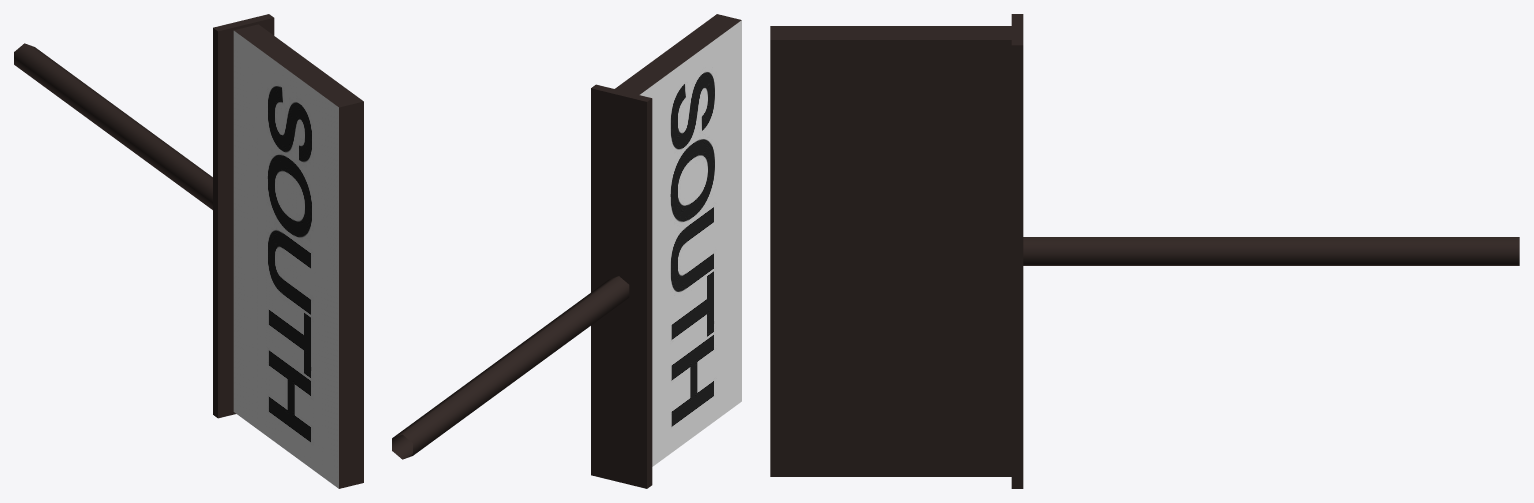
The model's file is south.obj.
The picture shows the model from 3 angles, left to right: view 1: azimuth 30°, elevation 25°; view 2: azimuth 150°, elevation 25°; view 3: azimuth 270°, elevation 25°; orthographic projection. The views are drawn at different scales.
Visible parts, largest first — view 1: south; view 2: south; view 3: south.
Boxes of the visible parts, x1=… form: south: x1=14, y1=14, x2=363, y2=488; south: x1=392, y1=14, x2=741, y2=488; south: x1=770, y1=14, x2=1519, y2=488.
Size of the model in its own units: 1.4 by 9.22 by 14.12.
2 materials, 1 textured.
